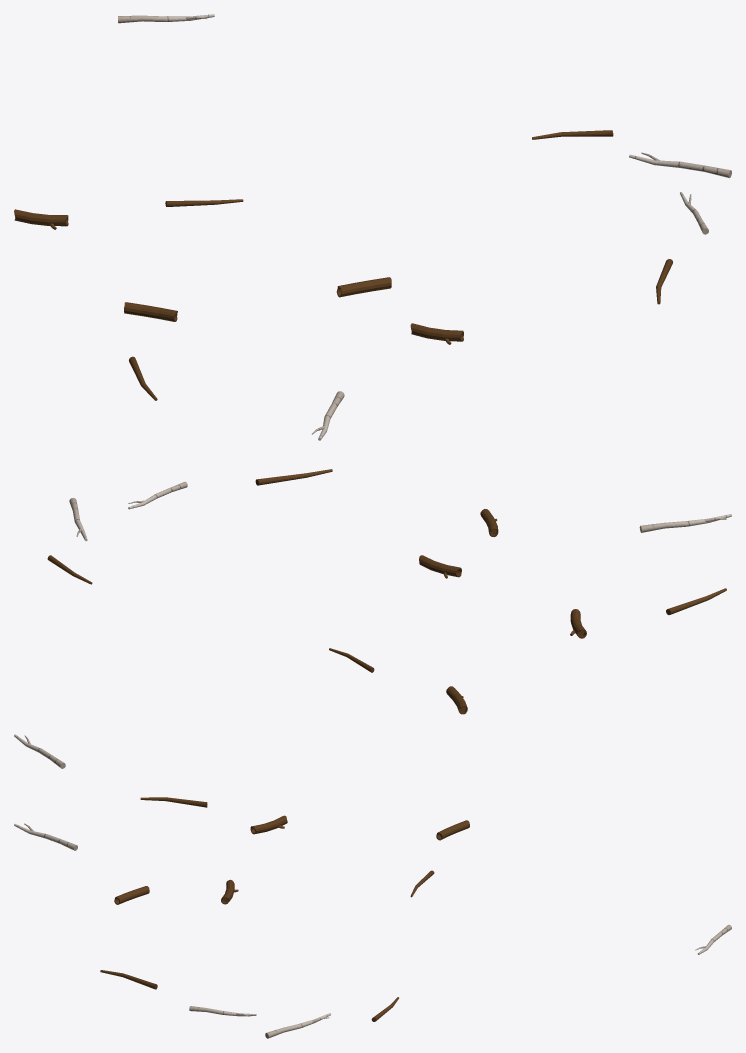
Rendered from Branches7.gltf.
3 renders of one model, top to bottom at view 1: azimuth 30°, elevation 25°; view 2: azimuth 150°, elevation 25°; view 3: azimuth 270°, elevation 25°, orthographic. The views are drawn at different scales.
Parts seen in each view (by area): view 1: BirchBranch1 - copy.018; view 2: BirchBranch1 - copy.028; view 3: no part large enough to name.
Boxes of the visible parts, box(x1,y1,x2,y2) form: BirchBranch1 - copy.018: box(629, 152, 731, 178); BirchBranch1 - copy.028: box(639, 514, 731, 532).
Size of the model in its own units: 22.07 by 0.3544 by 27.88.
3 materials, 3 textured.
